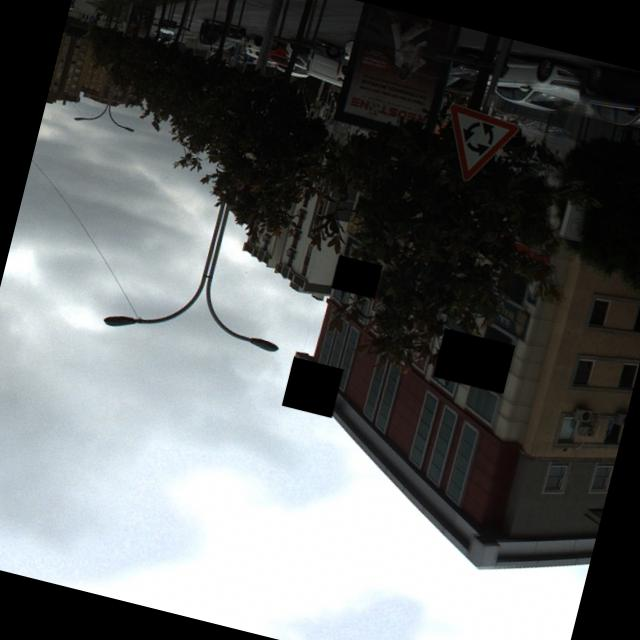SignStore: (439, 327, 508, 392), (289, 355, 334, 416), (334, 254, 378, 297), (490, 297, 530, 340)
